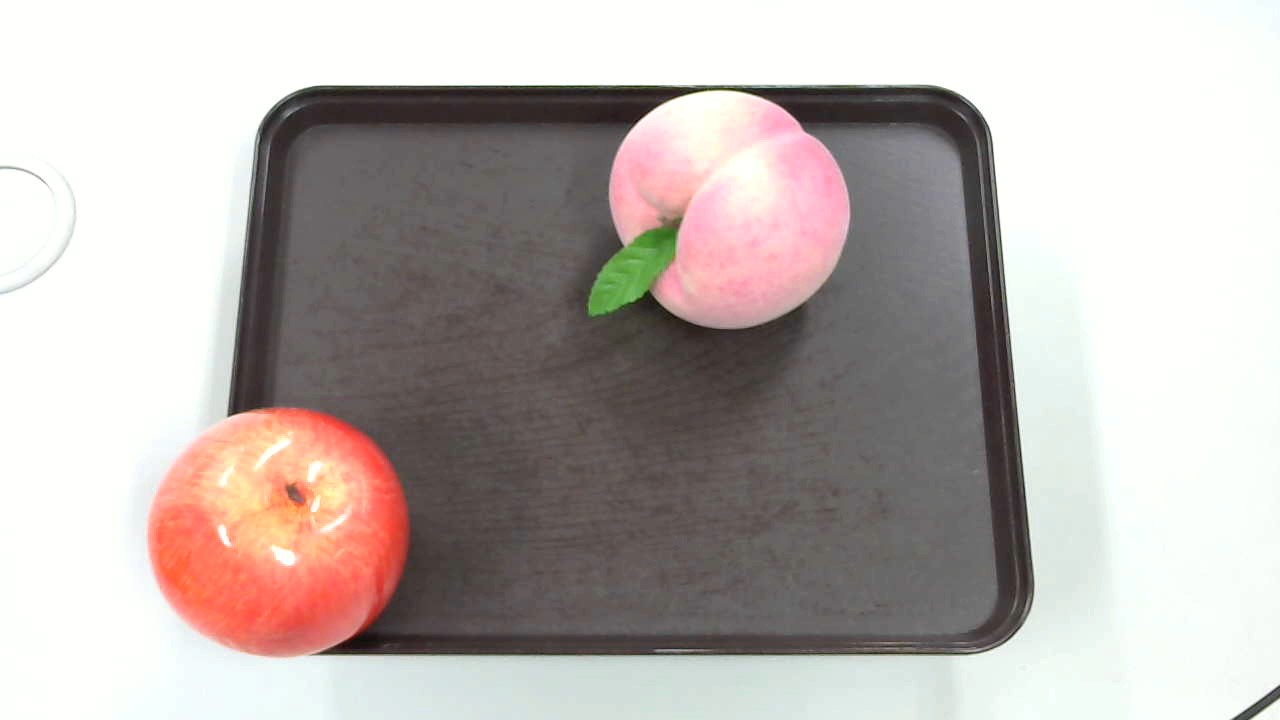peach: (573, 83, 849, 341)
red apple: (151, 402, 421, 662)
